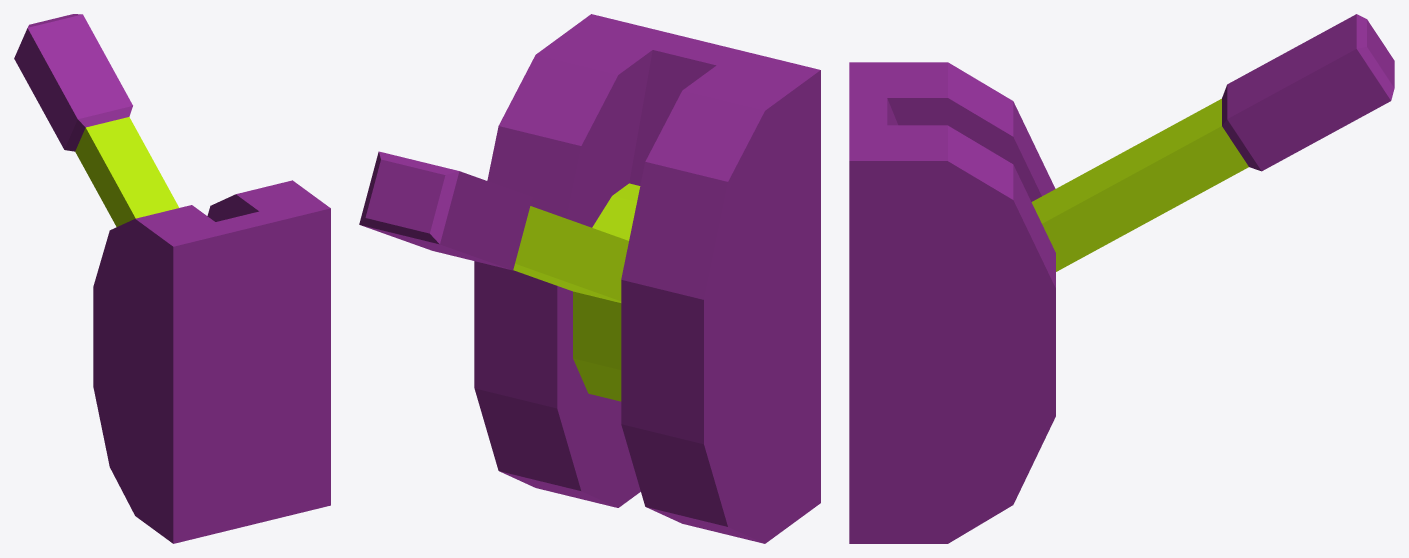
The model's file is lever.fbx.
3 views of the same model, side by side, from view 1: azimuth 30°, elevation 25°; view 2: azimuth 150°, elevation 25°; view 3: azimuth 270°, elevation 25° (orthographic). The views are drawn at different scales.
Parts seen in each view (by area): view 1: Cube; view 2: Cube; view 3: Cube.
Boxes of the visible parts, x1=… form: Cube: x1=14, y1=14, x2=330, y2=543; Cube: x1=359, y1=14, x2=820, y2=543; Cube: x1=849, y1=14, x2=1394, y2=543.
Bounding box in the file's own units: 111 × 242 × 258.
